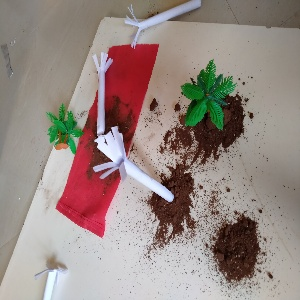plant: (171, 58, 242, 131), (38, 99, 84, 161)
weed: (87, 131, 175, 201), (115, 4, 210, 40), (93, 54, 127, 139), (22, 263, 69, 300)
